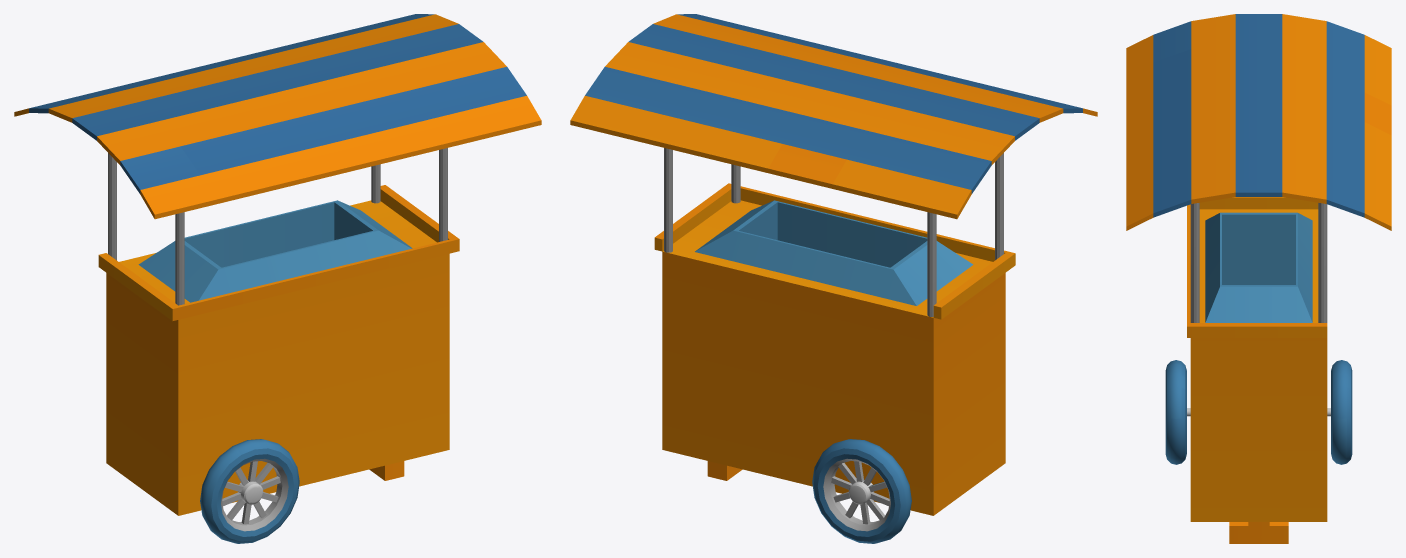
File: IceCreamMachine.fbx
3 views of the same model, side by side, from view 1: azimuth 30°, elevation 25°; view 2: azimuth 150°, elevation 25°; view 3: azimuth 270°, elevation 25° (orthographic). The views are drawn at different scales.
Visible parts, largest first — view 1: Body.005, Branda, Glass, Wheel, Steels; view 2: Body.005, Branda, Glass, Wheel, Steels; view 3: Branda, Body.005, Glass, Wheel, Steels, Foot.
Boxes of the visible parts, x1,y1,x2,y2 form: Body.005: (98, 185, 459, 515); Branda: (14, 14, 541, 219); Glass: (138, 200, 412, 302); Wheel: (200, 439, 299, 543); Steels: (108, 148, 447, 305); Body.005: (654, 183, 1015, 515); Branda: (570, 14, 1097, 219); Glass: (695, 200, 973, 305); Wheel: (812, 439, 911, 543); Steels: (664, 148, 1003, 316); Branda: (1126, 14, 1391, 230); Body.005: (1187, 197, 1327, 521); Glass: (1205, 212, 1312, 322); Wheel: (1165, 360, 1352, 464); Steels: (1190, 203, 1327, 322); Foot: (1229, 522, 1288, 543).
Bounding box in the file's own units: 1.74 × 1.77 × 1.09.
1 material, 1 textured.
